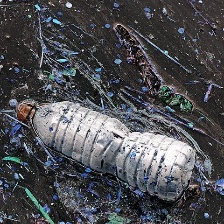bottle: (12, 94, 198, 206)
